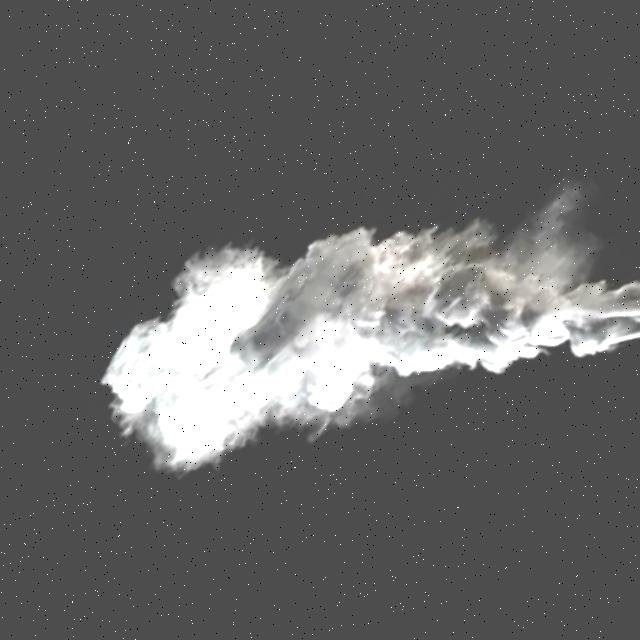Smoke: (54, 3, 640, 640)
